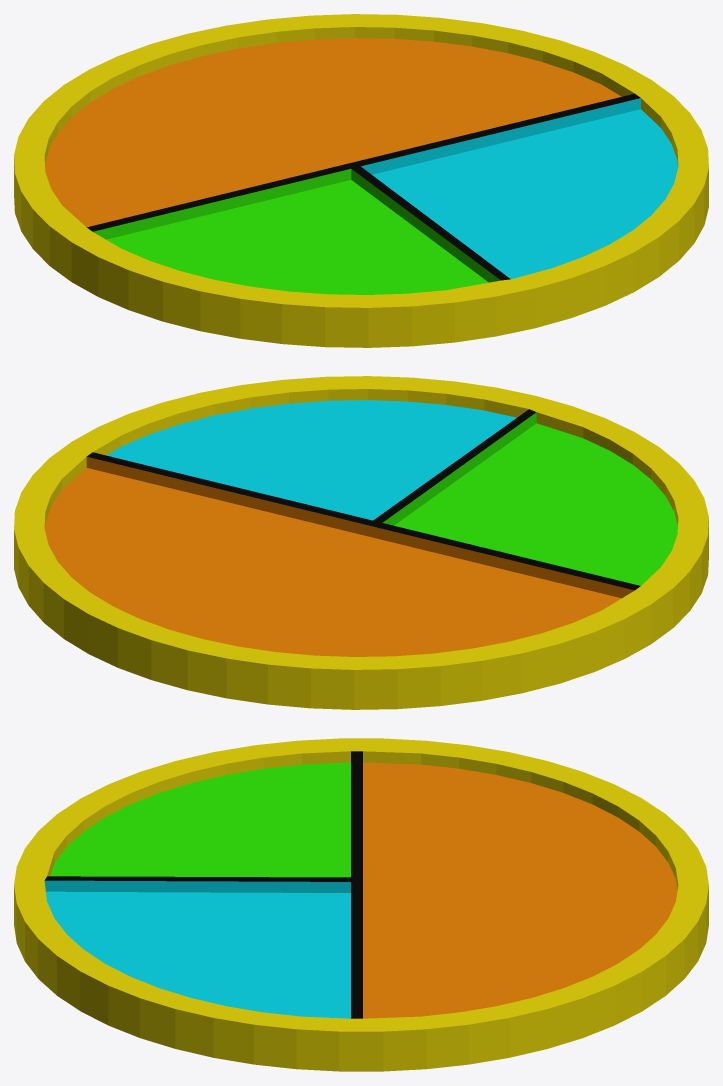
The model's file is PlateThree.fbx.
3 views of the same model, one above another, from view 1: azimuth 30°, elevation 25°; view 2: azimuth 150°, elevation 25°; view 3: azimuth 270°, elevation 25° (orthographic).
Parts seen in each view (by area): view 1: Cylinder; view 2: Cylinder; view 3: Cylinder.
Boxes of the visible parts, left/top/right/bottom form: Cylinder: left=14, top=14, right=708, bottom=347; Cylinder: left=14, top=376, right=708, bottom=709; Cylinder: left=14, top=738, right=708, bottom=1071.
Bounding box in the file's own units: 200 × 12.68 × 200.
